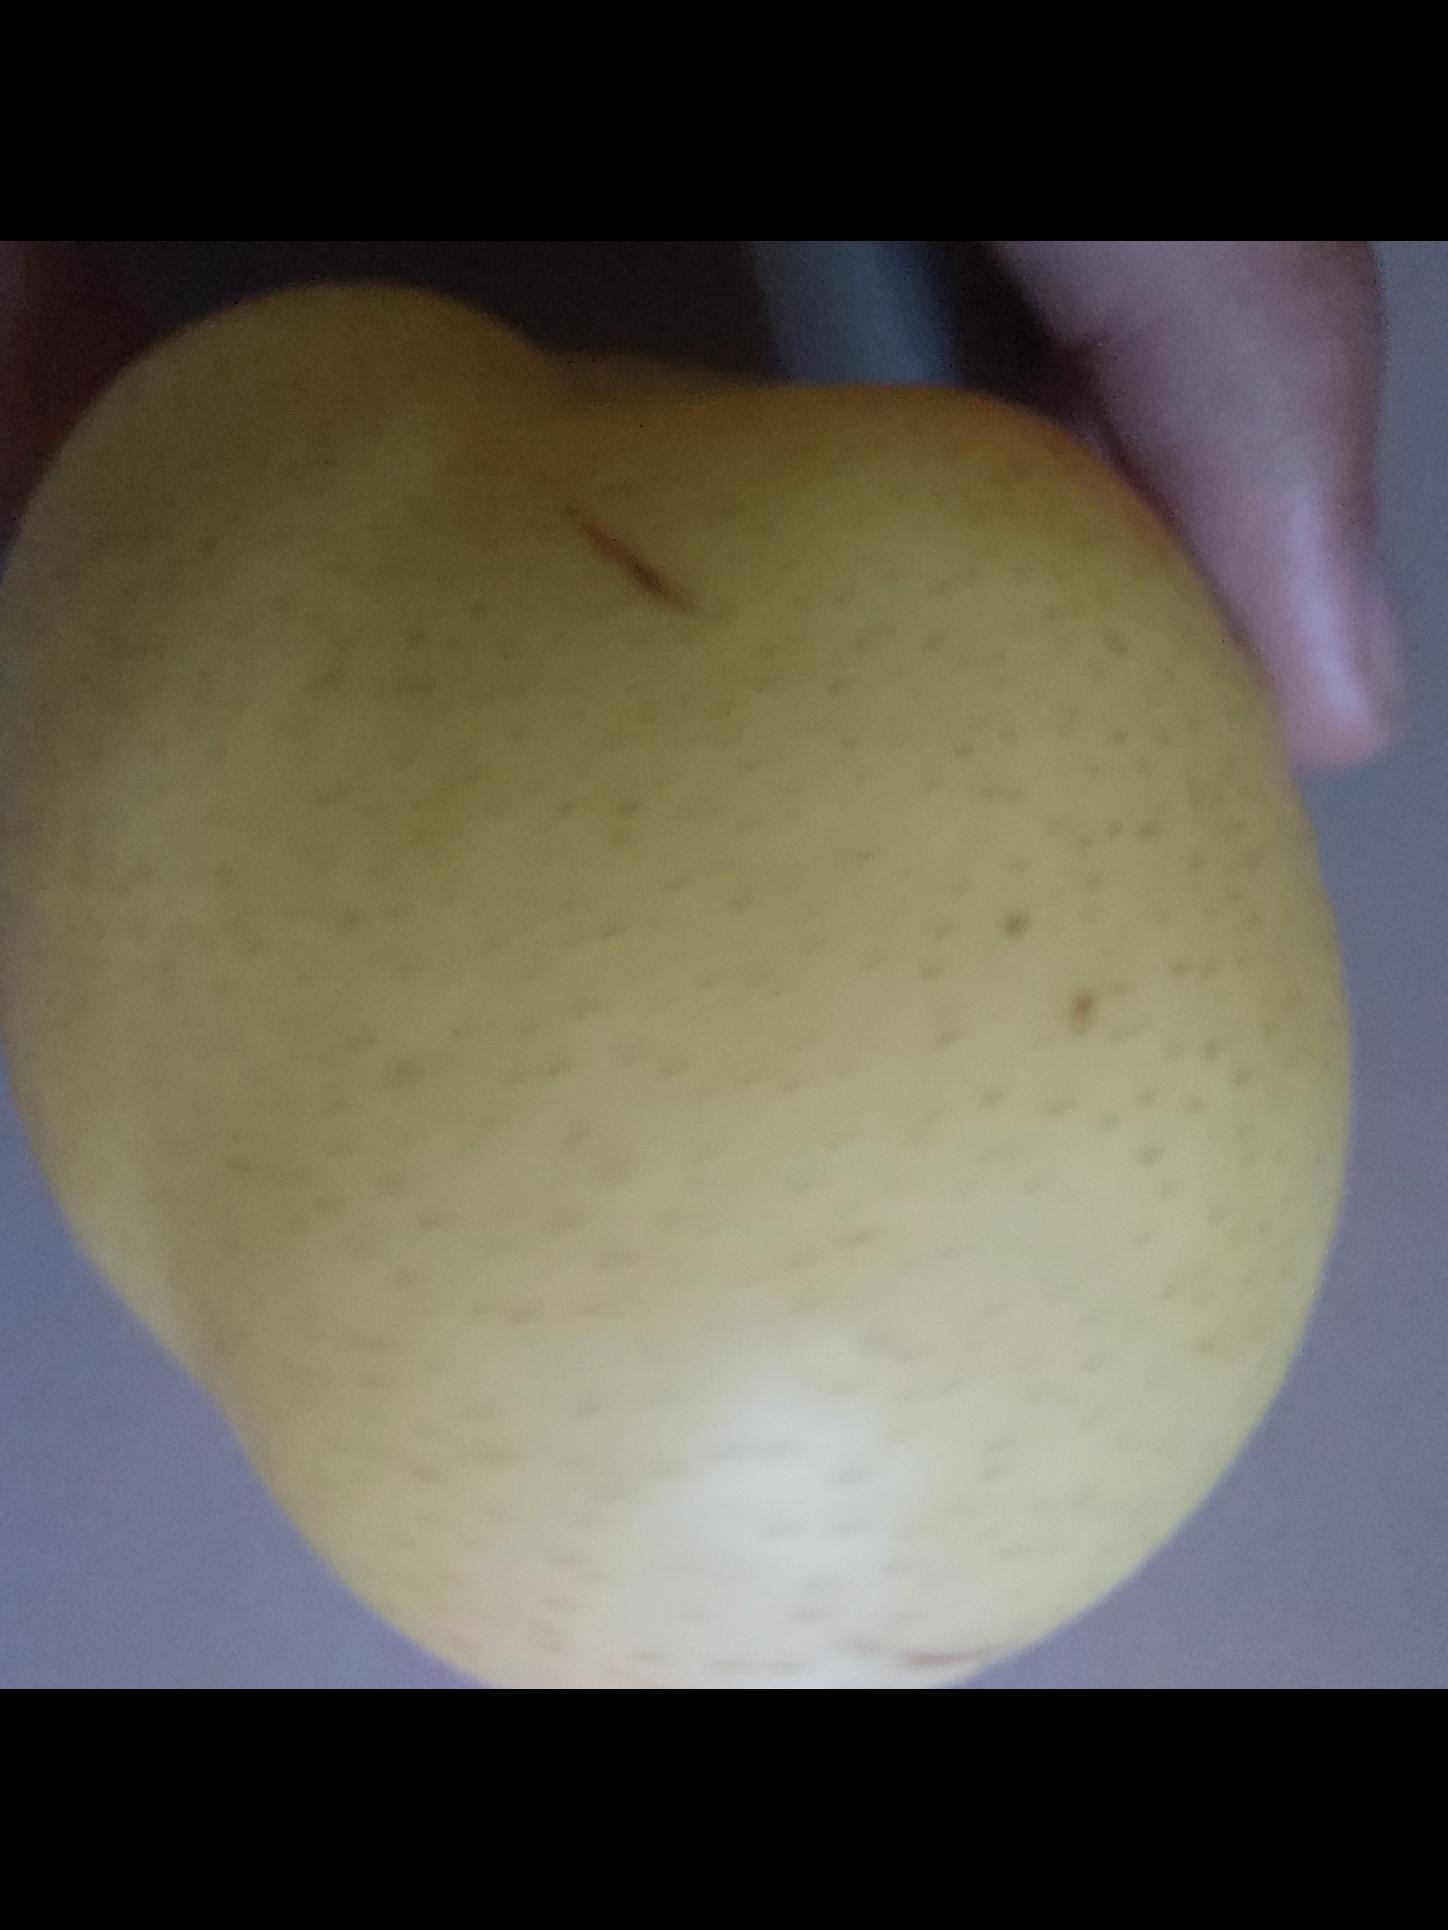Good Pear: (0, 271, 1338, 1689)
